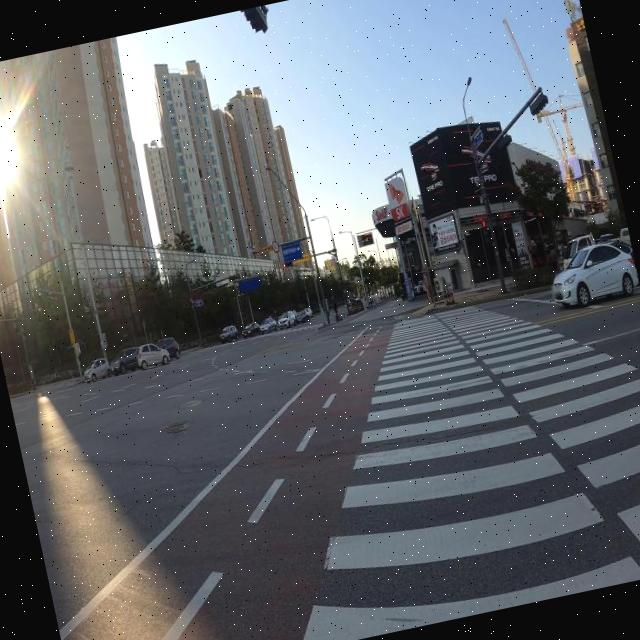crosswalk: (303, 304, 640, 640), (187, 322, 327, 353)
